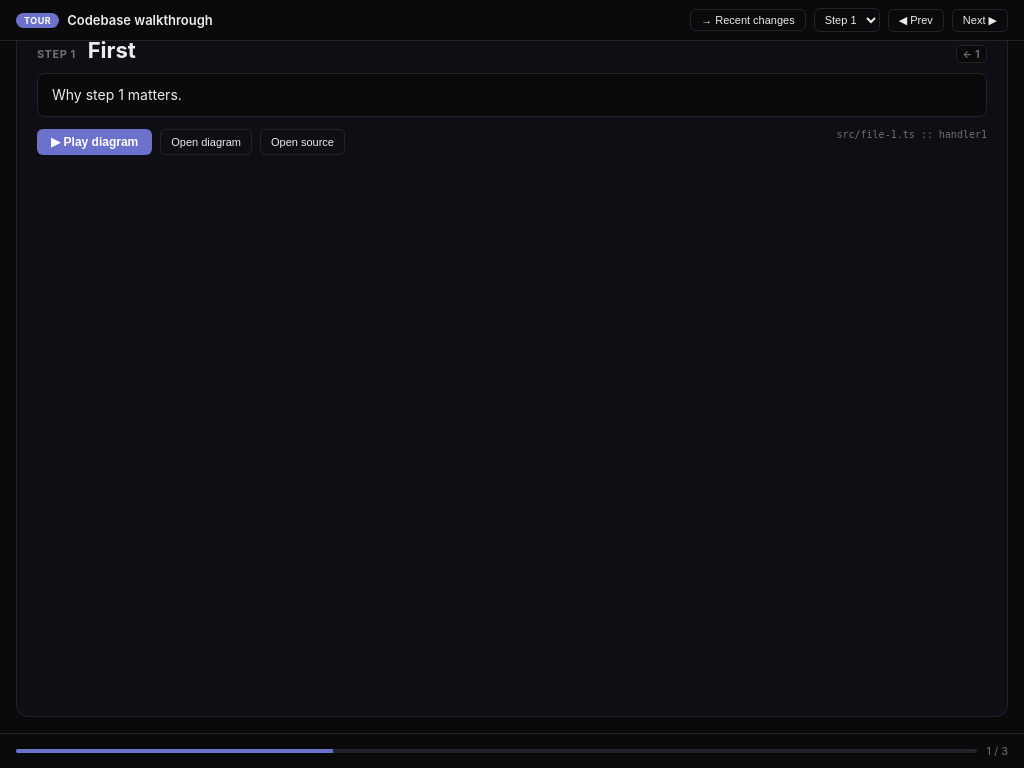
Scenario: TourView › jump dropdown navigates to the chosen step
Select "Step 3" in the dropdown named "Jump to step": (847, 20) [814,8,880,32]
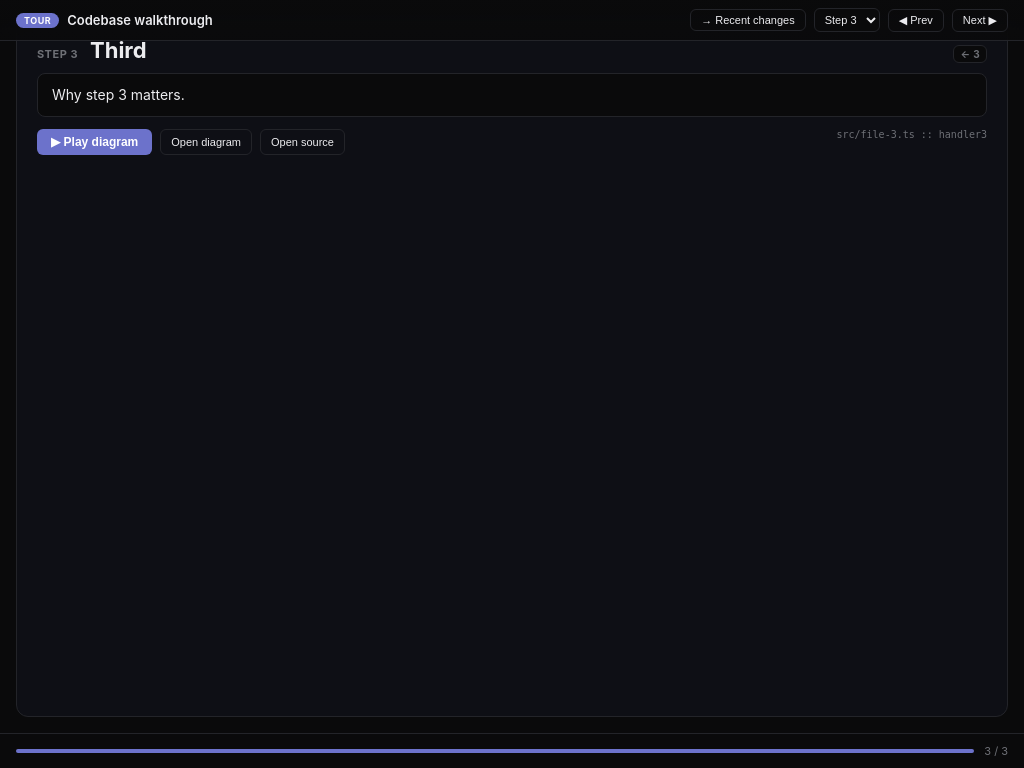
Expected: the text "Third" is shown, [90,37,147,63]
